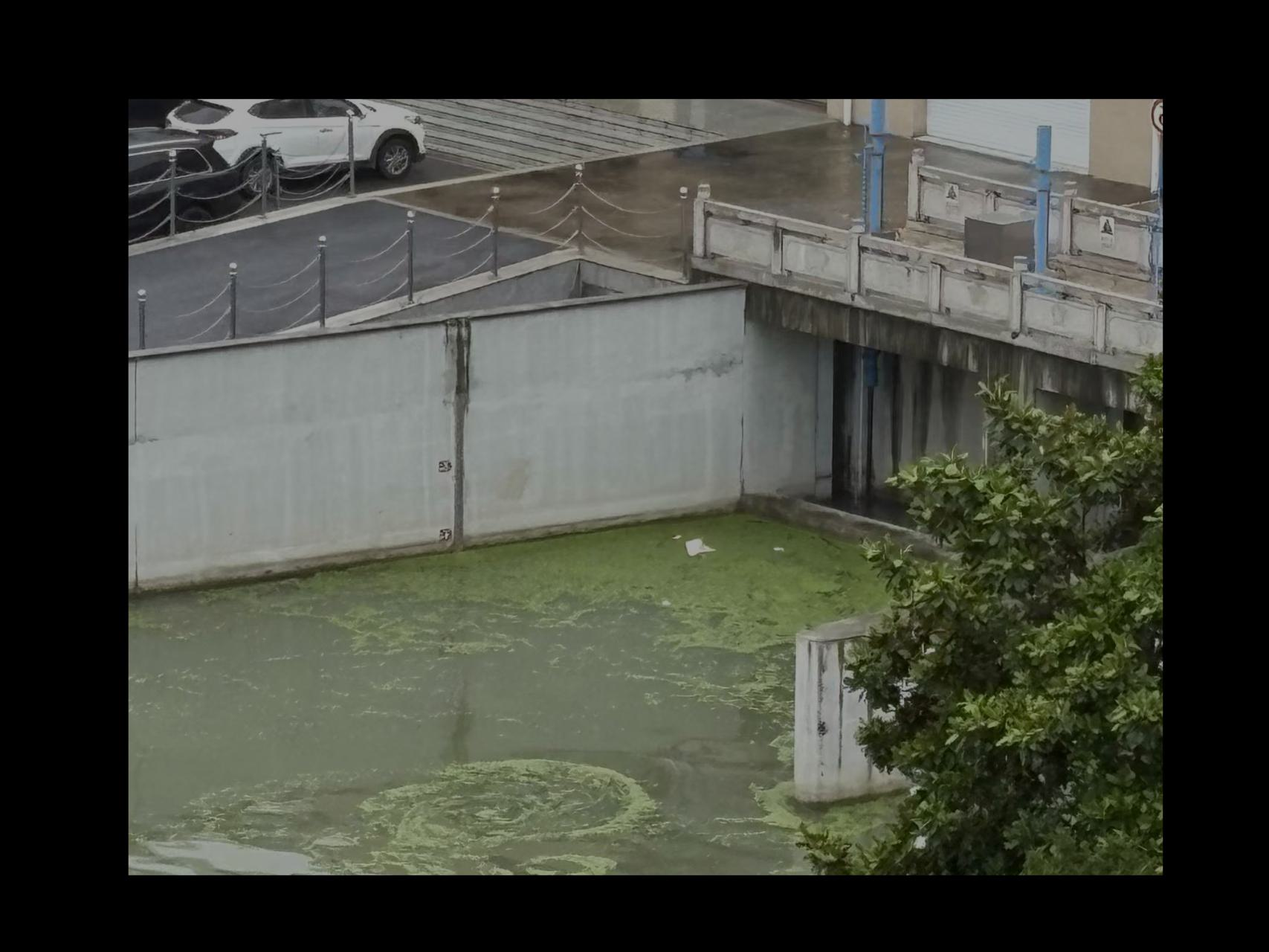Other: (320, 762, 642, 874), (514, 522, 663, 593), (675, 567, 815, 640), (376, 556, 507, 605)
Plastic wastes: (685, 534, 712, 556), (771, 539, 789, 551), (668, 530, 682, 541), (661, 599, 668, 606)
